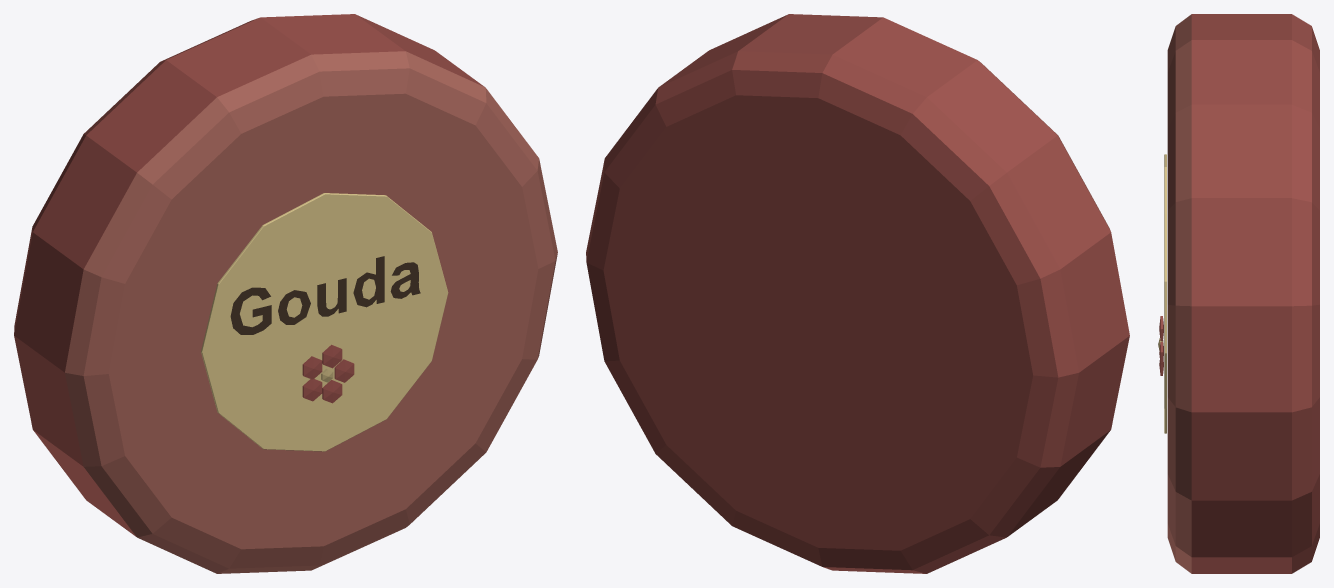
Rendered from gouda.glb.
3 renders of one model, left to right at view 1: azimuth 30°, elevation 25°; view 2: azimuth 150°, elevation 25°; view 3: azimuth 270°, elevation 25°, orthographic.
Visible parts, largest first — view 1: gouda; view 2: gouda; view 3: gouda.
Boxes of the visible parts, x1,y1,x2,y2 form: gouda: [14, 14, 557, 573]; gouda: [586, 14, 1129, 573]; gouda: [1158, 14, 1319, 573].
Bounding box in the file's own units: 0.14 × 0.14 × 0.0404.
